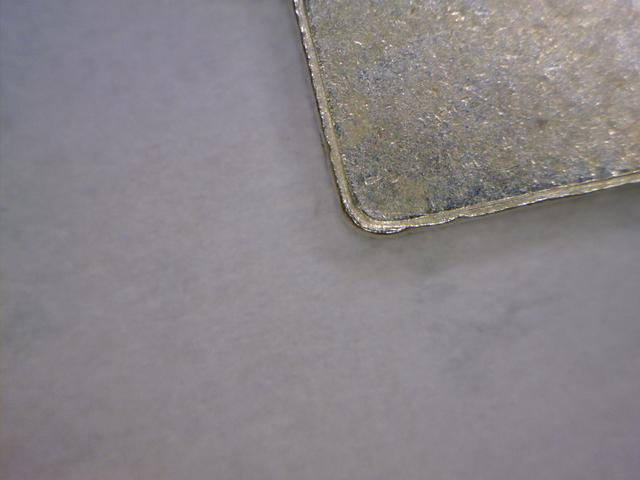nok: (277, 1, 637, 259)
